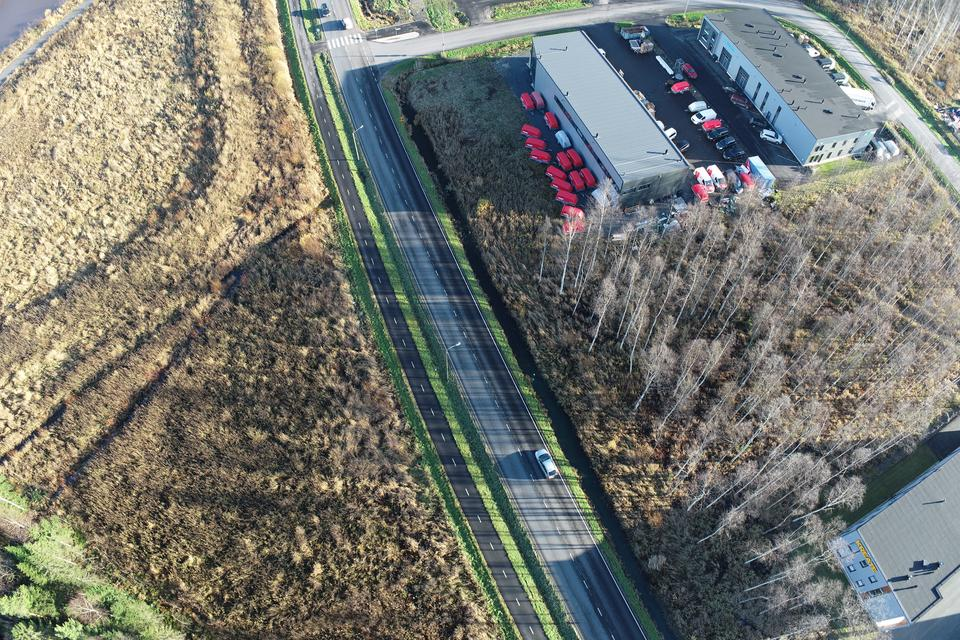intersection: (269, 1, 455, 96)
